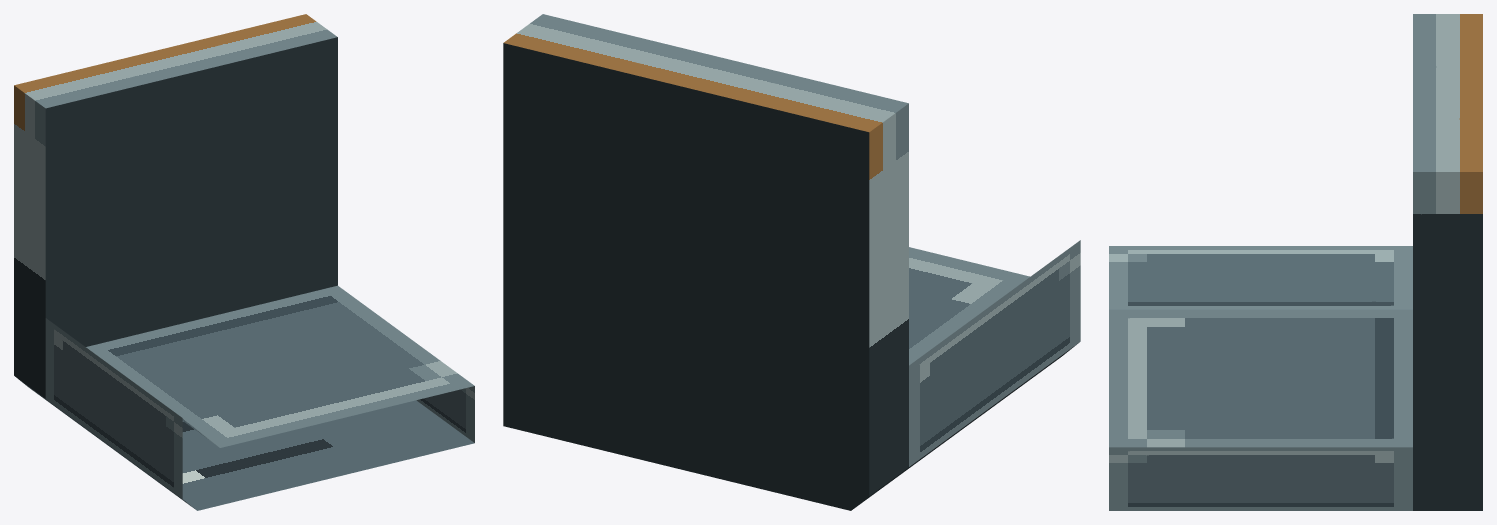
File: casing_d7_front_x-1_y-3.obj
3 views of the same model, side by side, from view 1: azimuth 30°, elevation 25°; view 2: azimuth 150°, elevation 25°; view 3: azimuth 270°, elevation 25° (orthographic). The views are drawn at different scales.
Parts seen in each view (by area): view 1: d7_front_x-1_y-3; view 2: d7_front_x-1_y-3; view 3: d7_front_x-1_y-3.
Boxes of the visible parts, x1,y1,x2,y2 form: d7_front_x-1_y-3: (14,14,474,510); d7_front_x-1_y-3: (503,14,1080,510); d7_front_x-1_y-3: (1109,14,1482,510).
Size of the model in its own units: 1 by 1 by 1.
